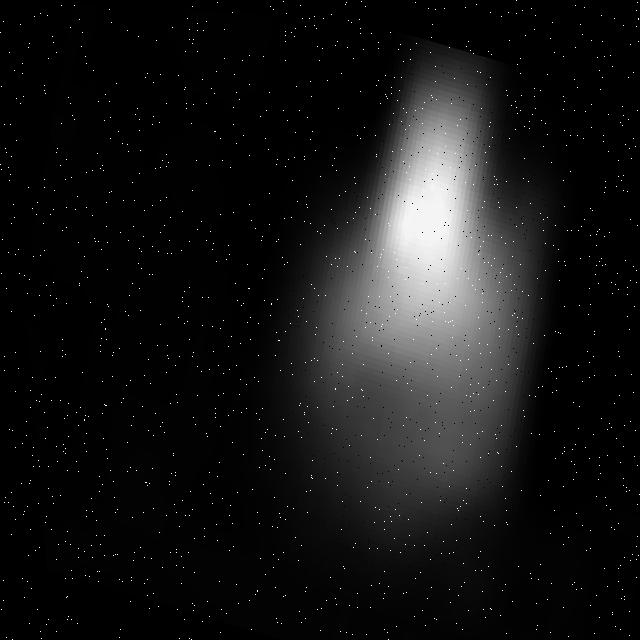person: (176, 8, 633, 640)
